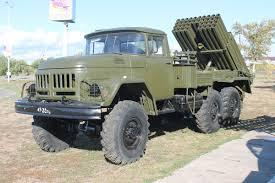MIL_SAM_TEL: (19, 14, 251, 163)
